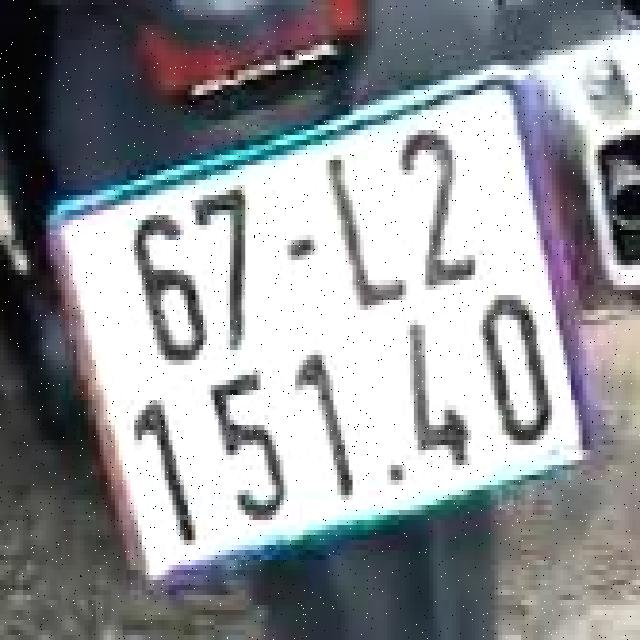0: (463, 272, 566, 457)
1: (280, 335, 374, 511), (121, 381, 212, 557)
2: (384, 104, 493, 302)
4: (385, 302, 484, 480)
5: (196, 356, 301, 533)
6: (120, 198, 216, 381)
7: (186, 178, 273, 359)
L: (311, 133, 415, 322)
